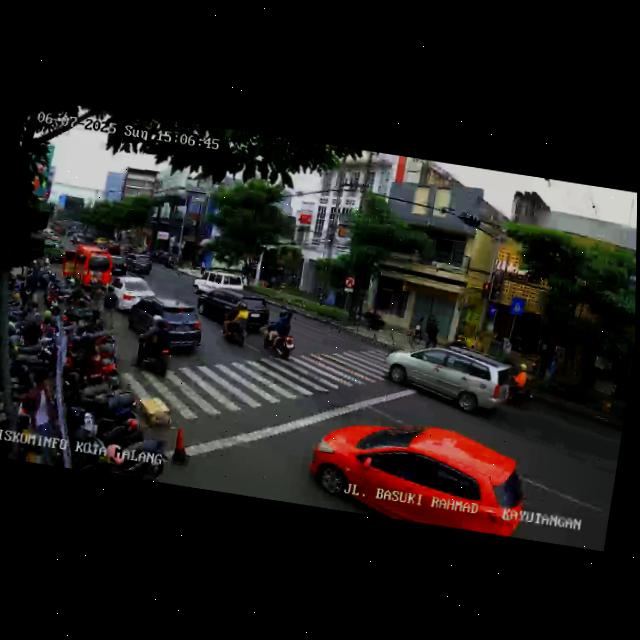car: (307, 411, 536, 539), (383, 337, 520, 423), (128, 295, 207, 357), (58, 243, 114, 295), (103, 273, 156, 317), (196, 282, 245, 323), (191, 266, 246, 301), (124, 252, 154, 278), (107, 255, 129, 277)
motorcycle: (131, 310, 177, 379), (261, 306, 300, 361), (219, 299, 255, 350)
